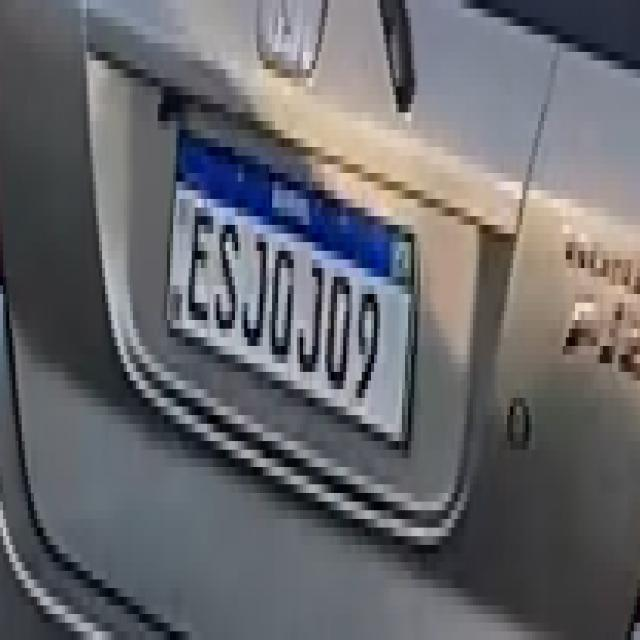Placa_mercosul_carro: (161, 128, 418, 446)
